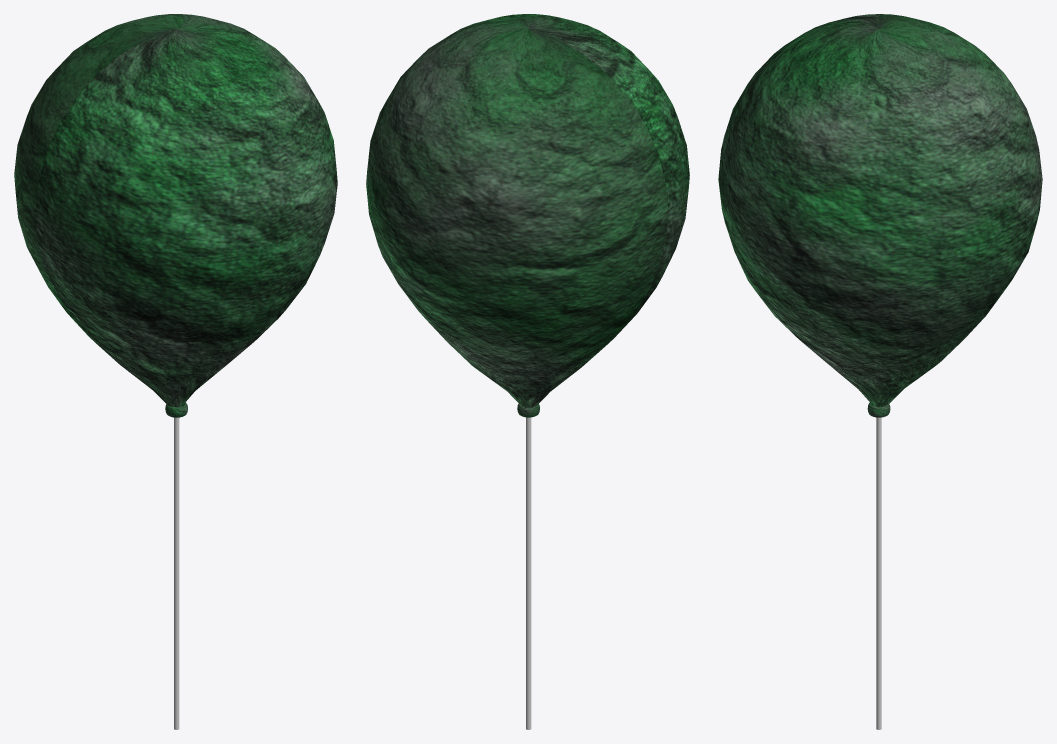
The model's file is balloon_green_2.glb.
The picture shows the model from 3 angles, left to right: view 1: azimuth 30°, elevation 25°; view 2: azimuth 150°, elevation 25°; view 3: azimuth 270°, elevation 25°; orthographic projection.
Parts seen in each view (by area): view 1: Sphere.006, Cylinder.006; view 2: Sphere.006, Cylinder.006; view 3: Sphere.006, Cylinder.006.
Part boxes in pixels (left/top/right/bottom): Sphere.006: left=14, top=14, right=337, bottom=407; Cylinder.006: left=174, top=417, right=179, bottom=729; Sphere.006: left=366, top=14, right=689, bottom=407; Cylinder.006: left=526, top=417, right=531, bottom=729; Sphere.006: left=718, top=14, right=1042, bottom=407; Cylinder.006: left=876, top=417, right=881, bottom=729.
Bounding box in the file's own units: 2 × 4.76 × 2.
2 materials, 2 textured.
